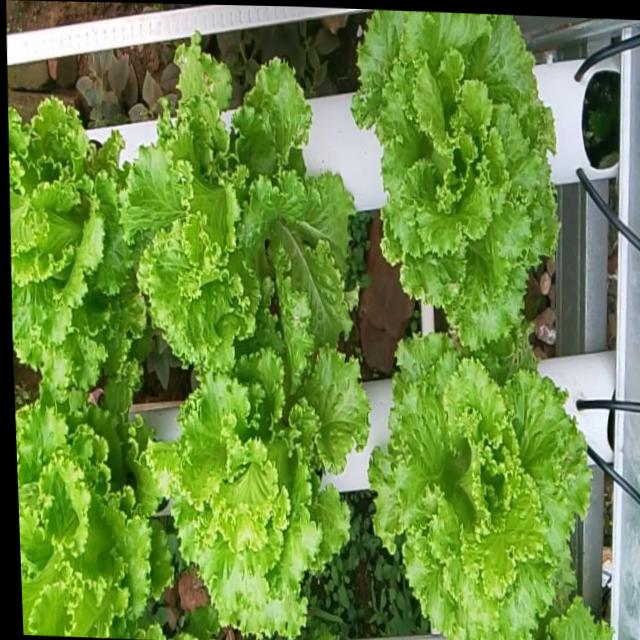Mature: (371, 324, 616, 640), (125, 39, 358, 371), (152, 305, 372, 634), (354, 10, 563, 345), (15, 379, 174, 638), (8, 95, 144, 382)
